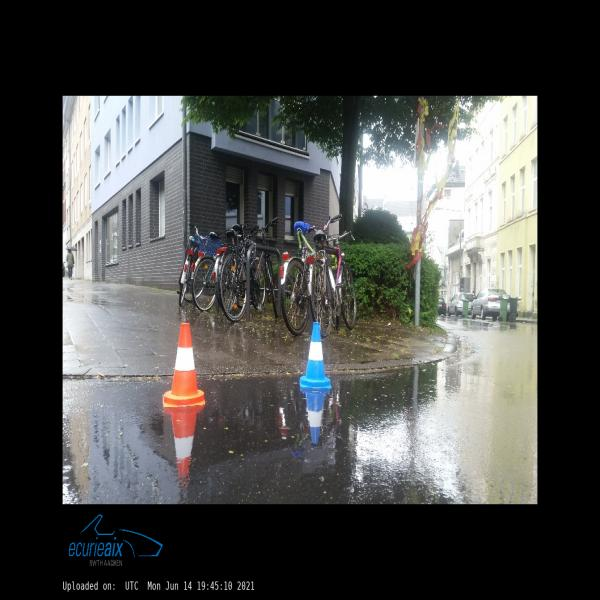blue_cone: (300, 323, 331, 390)
orange_cone: (163, 323, 205, 407)
